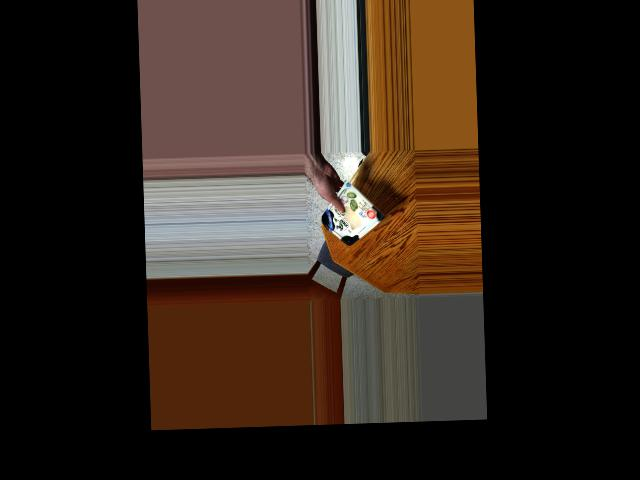cheese: (320, 191, 377, 240)
